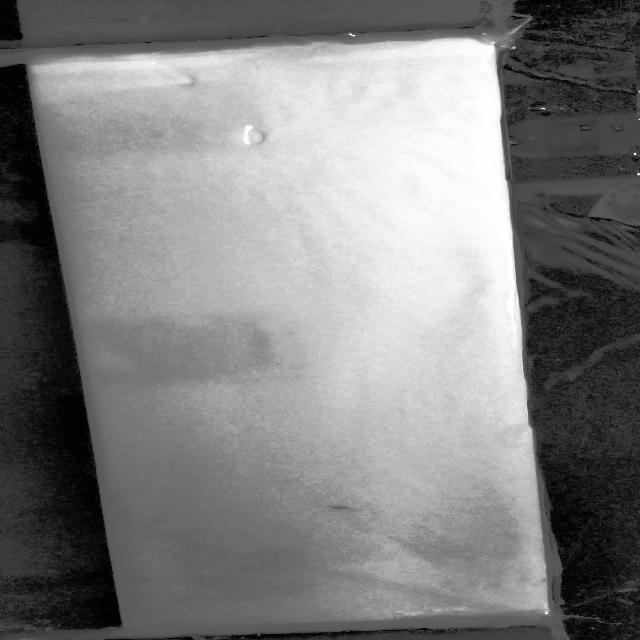shrimp: (312, 491, 374, 513), (121, 575, 158, 586)
